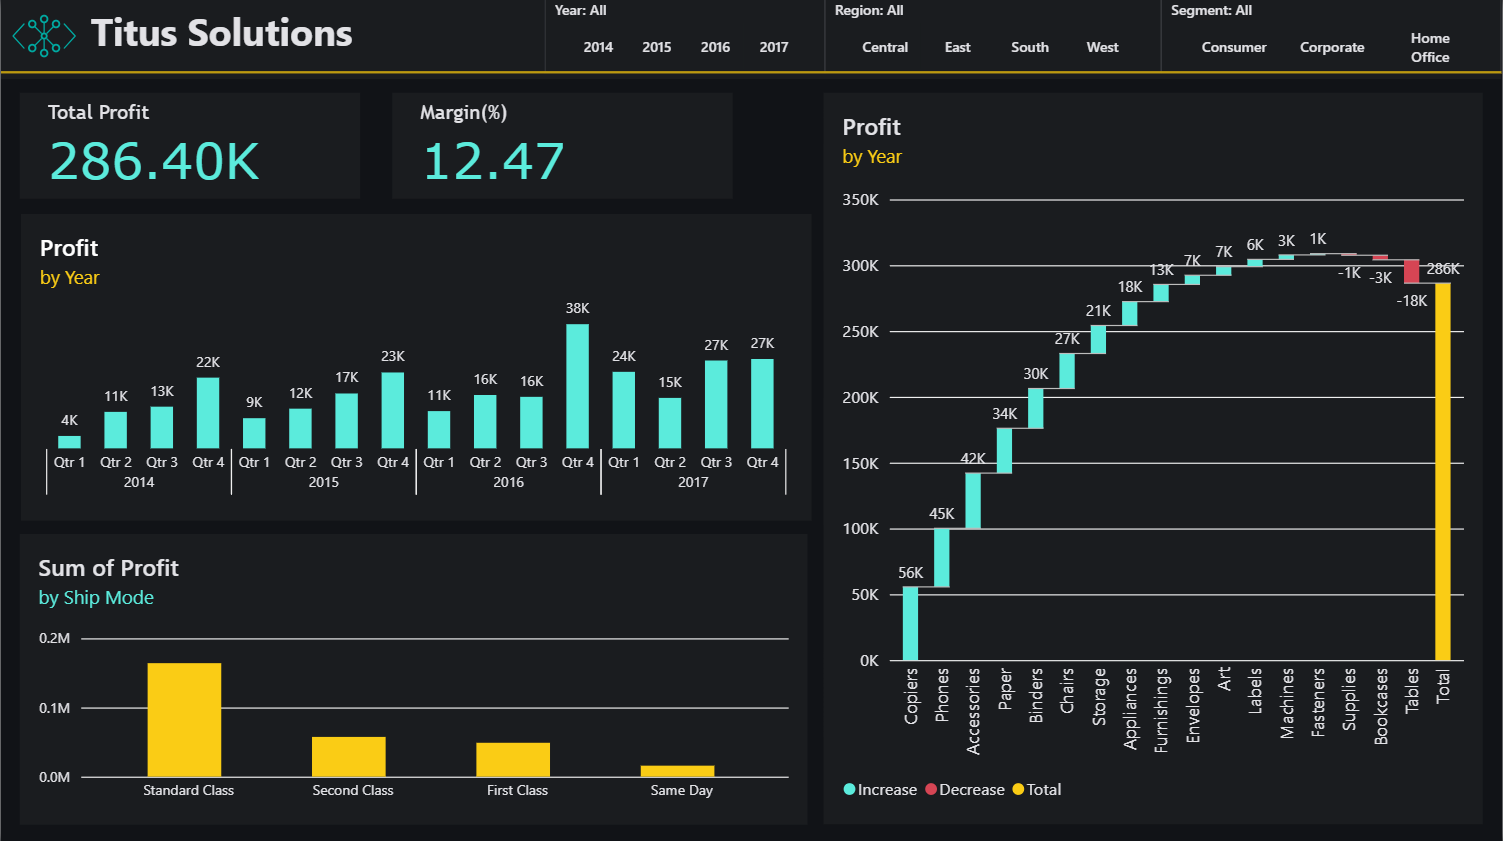

Layout of this report page (visuals, bound fields, positions):
{"tool":"powerbi","page":{"name":"Page 2","canvas":[1280,720],"ordinal":1},"visuals":[{"type":"textbox","box":[0,1.2,1280,61.6],"z":0,"group":"g1"},{"type":"clusteredColumnChart","title":"Profit","fields":{"Category":["public superstore.Order Date.Variation.Date Hierarchy.Year","public superstore.Order Date.Variation.Date Hierarchy.Quarter"],"Y":["Sum(public superstore.Profit)"]},"box":[16.6,183,674.4,261.9],"z":0},{"type":"cardVisual","fields":{"Data":["Sum(public measures.total_profit)"]},"box":[1419,558.5,242.6,134.4],"z":1000},{"type":"slicer","fields":{"Values":["public superstore.Region"]},"box":[702.8,0,286.8,62.8],"z":2000,"group":"g1"},{"type":"waterfallChart","title":"Profit","fields":{"Y":["Sum(public superstore.Profit)"],"Category":["public superstore.Sub-Category"]},"box":[702,80,562,624],"z":2000},{"type":"clusteredColumnChart","fields":{"Category":["public superstore.Ship Mode"],"Y":["Sum(public superstore.Profit)"]},"box":[16,456,672,248],"z":3000},{"type":"slicer","fields":{"Values":["public superstore.Segment"]},"box":[989.6,0,290.4,62.8],"z":4000,"group":"g1"},{"type":"cardVisual","fields":{"Data":["Sum(public measures.total_profit)"]},"box":[16.2,80,290,90],"z":4000},{"type":"cardVisual","fields":{"Data":["Sum(public measures.margin)"]},"box":[333.8,80,290,90],"z":5000},{"type":"group","id":"g1","title":"Group 1","box":[0,0,1280,68],"z":6000},{"type":"slicer","fields":{"Values":["public superstore.Order Date.Variation.Date Hierarchy.Year"]},"box":[463.4,0,239.4,62.8],"z":6000,"group":"g1"},{"type":"shape","box":[0,56,1280,12],"z":12000,"group":"g1"},{"type":"image","box":[0,0,73.5,62.8],"z":14000,"group":"g1"}]}

Visuals, with their boxes in screenshot pixels (x1, y1, x2, y2), scaled from the page's 1280x720 canvas onto the 1503x841 screenshot:
textbox: box=[0, 1, 1502, 73]
"Profit" clusteredColumnChart: box=[19, 214, 811, 520]
slicer - public superstore.Region: box=[825, 0, 1162, 73]
"Profit" waterfallChart: box=[824, 93, 1484, 822]
clusteredColumnChart - public superstore.Ship Mode x Sum(public superstore.Profit): box=[19, 533, 808, 822]
slicer - public superstore.Segment: box=[1162, 0, 1502, 73]
cardVisual - Sum(public measures.total_profit): box=[19, 93, 360, 199]
cardVisual - Sum(public measures.margin): box=[392, 93, 732, 199]
"Group 1" group: box=[0, 0, 1502, 79]
slicer - public superstore.Order Date.Variation.Date Hierarchy.Year: box=[544, 0, 825, 73]
shape: box=[0, 65, 1502, 79]
image: box=[0, 0, 86, 73]
